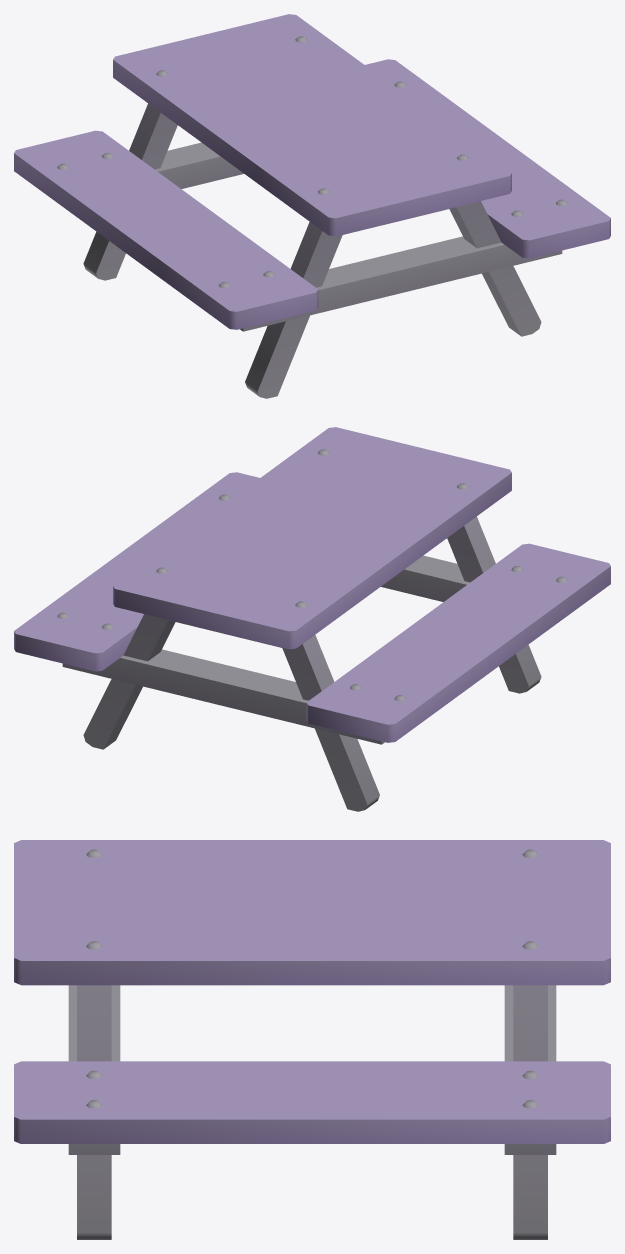
Rendered from table-picnic-modern.glb.
3 renders of one model, top to bottom at view 1: azimuth 30°, elevation 25°; view 2: azimuth 150°, elevation 25°; view 3: azimuth 270°, elevation 25°, orthographic. The views are drawn at different scales.
Parts seen in each view (by area): view 1: table-picnic-modern; view 2: table-picnic-modern; view 3: table-picnic-modern.
Boxes of the visible parts, <box> form: table-picnic-modern: <box>14,14,610,398</box>; table-picnic-modern: <box>14,427,610,811</box>; table-picnic-modern: <box>14,840,610,1239</box>.
Bounding box in the file's own units: 1.14 × 0.5392 × 1.14.
